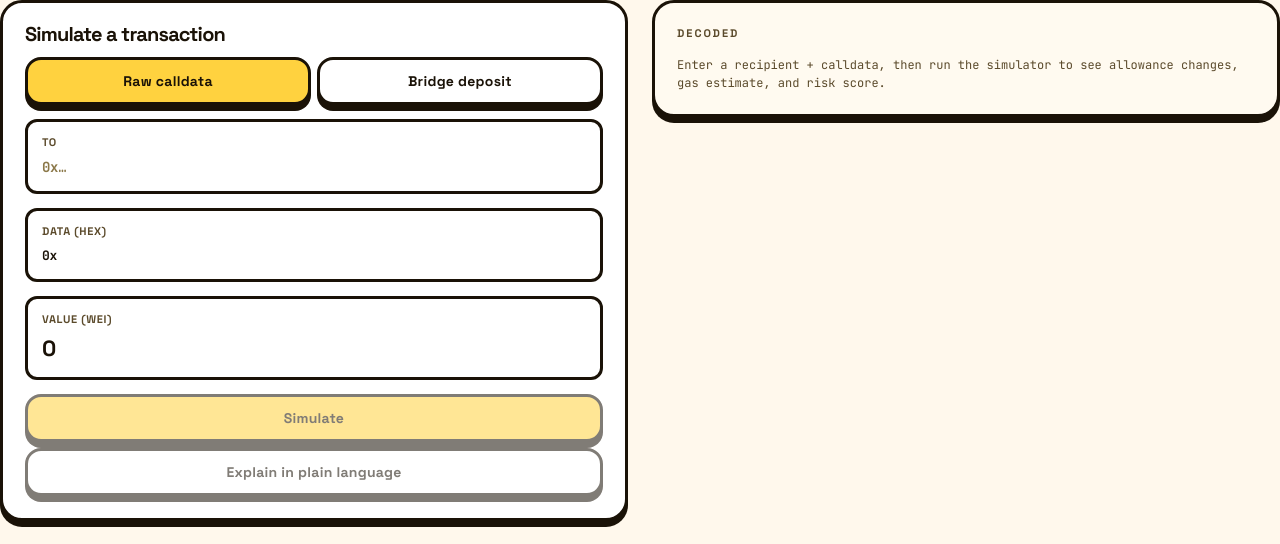
Scenario: TxReviewPanel explanation layer › shows nothing extra when the server answers static
Type "0x000000000000000000000000000000000000beef" into the field with placeholder "0x…" at (314, 167), box [42,157,586,178]
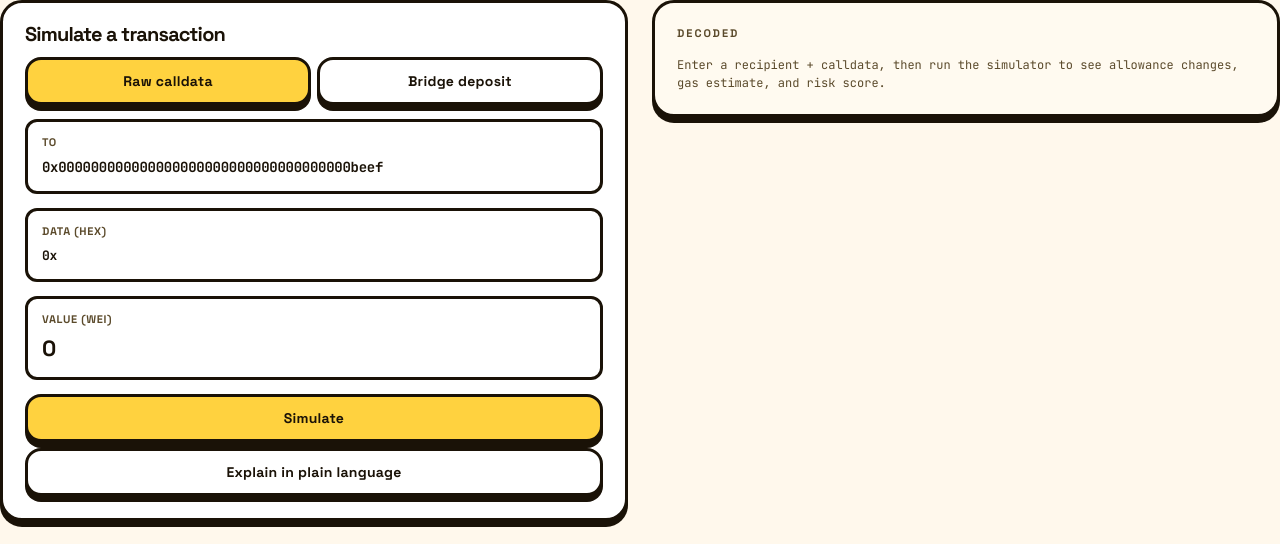
Click the button "Explain in plain language" at (314, 472), box [25,448,603,496]
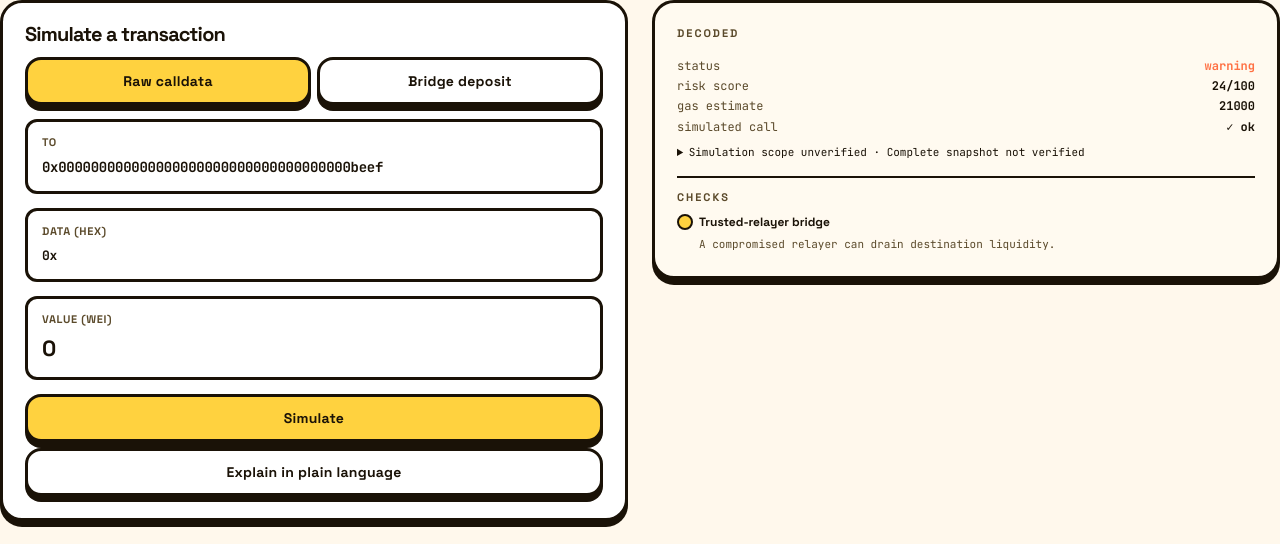
Expected: the text "Trusted-relayer bridge" is shown, [699,214,830,230]
